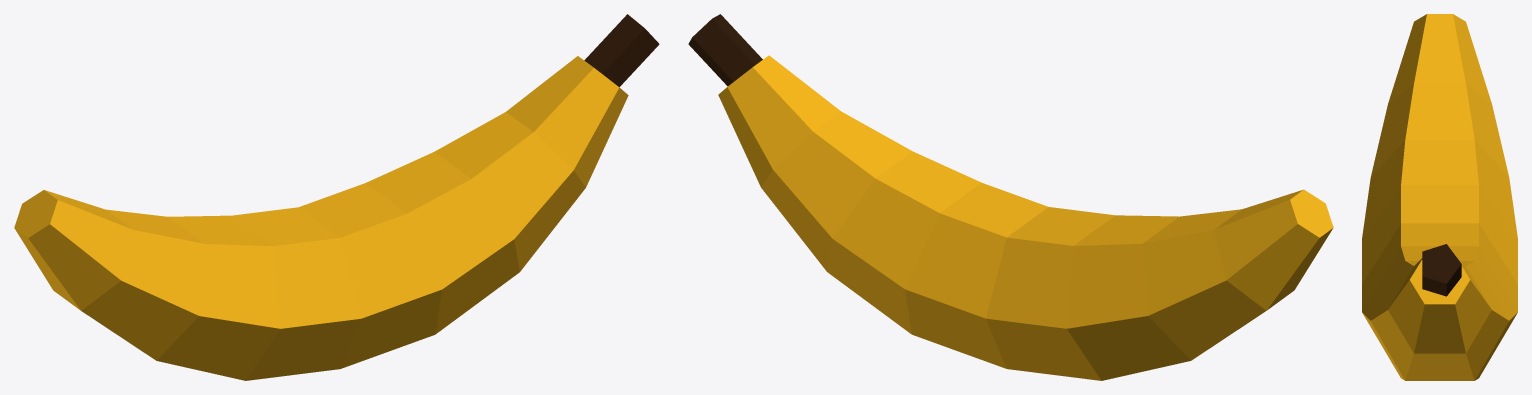
The model's file is banana.obj.
The picture shows the model from 3 angles, left to right: view 1: azimuth 30°, elevation 25°; view 2: azimuth 150°, elevation 25°; view 3: azimuth 270°, elevation 25°; orthographic projection. The views are drawn at different scales.
Parts seen in each view (by area): view 1: banana; view 2: banana; view 3: banana.
Boxes of the visible parts, x1,y1,x2,y2 form: banana: [14, 14, 659, 380]; banana: [688, 14, 1333, 380]; banana: [1362, 14, 1517, 380].
Size of the model in its own units: 0.1575 by 0.062 by 0.036.
